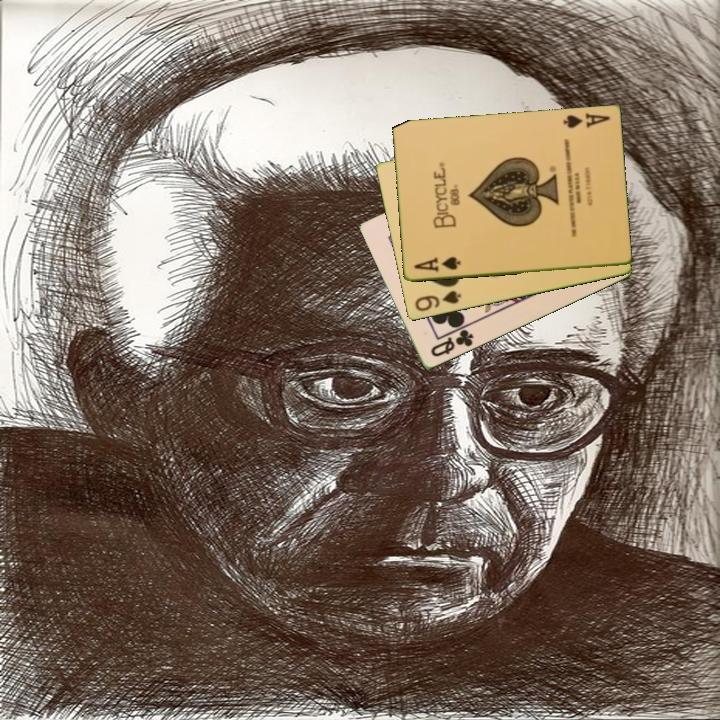9s: (411, 287, 464, 315)
As: (559, 110, 612, 132), (410, 254, 463, 275)
Qc: (427, 322, 476, 360)
